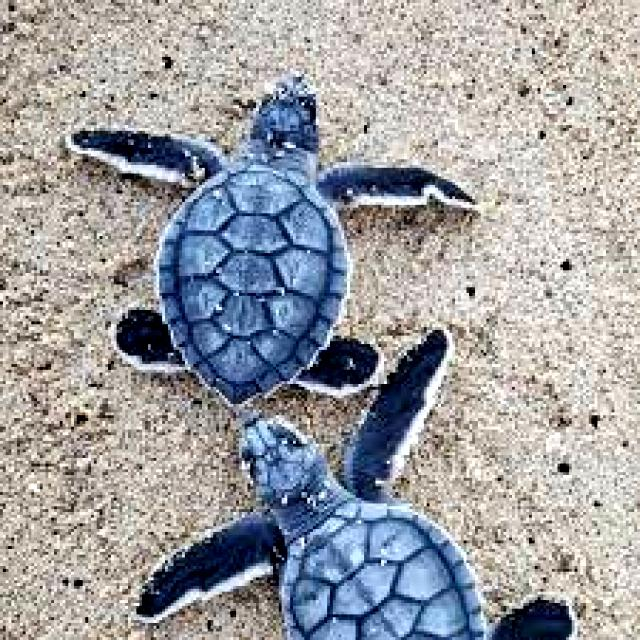Sea turtle: (32, 74, 428, 411), (149, 400, 609, 640)
